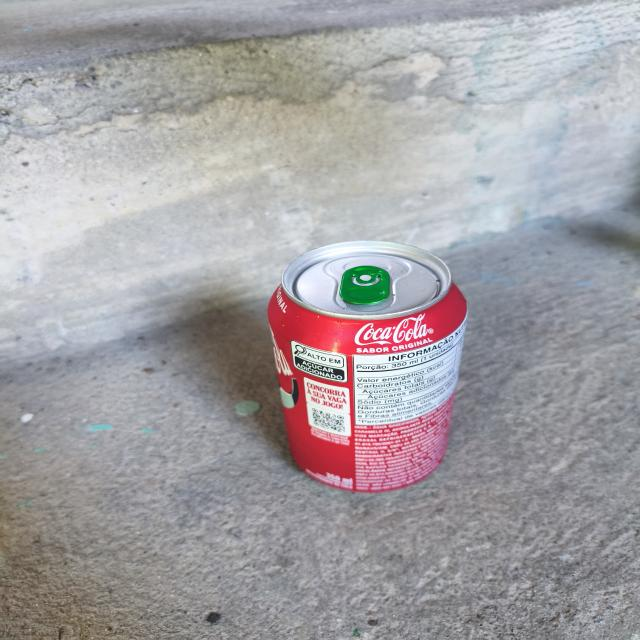Coca Cola: (244, 218, 529, 522)
